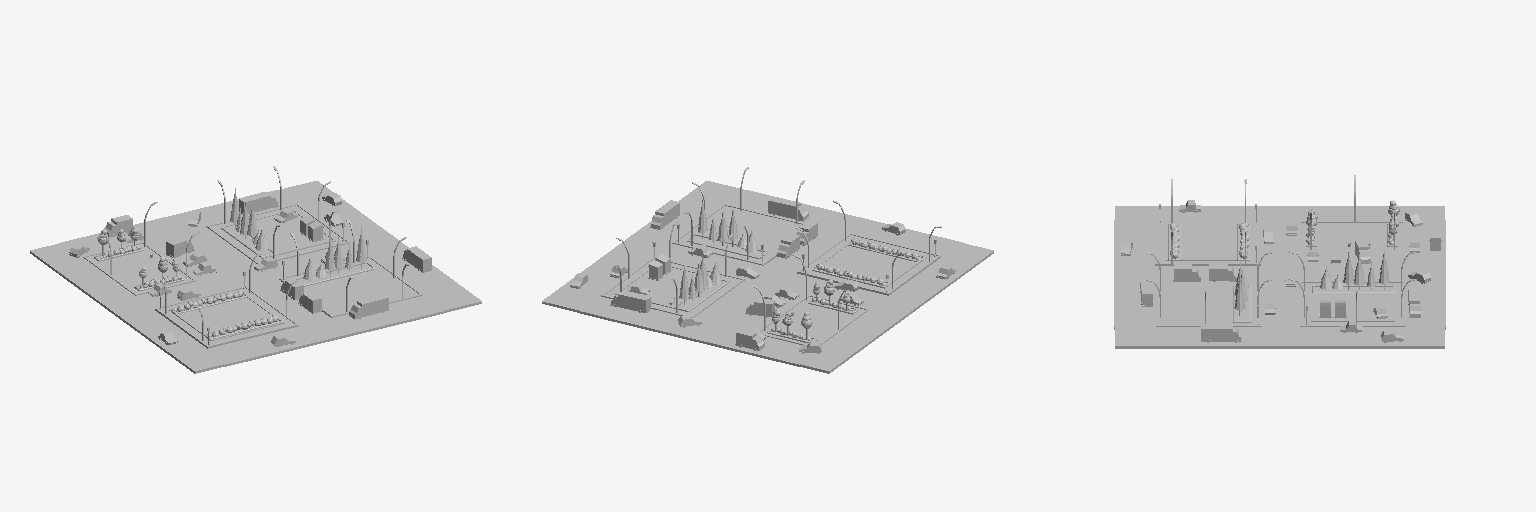
The model's file is build5.obj.
The picture shows the model from 3 angles: view 1: azimuth 30°, elevation 25°; view 2: azimuth 150°, elevation 25°; view 3: azimuth 270°, elevation 25°; orthographic projection.
Visible parts, largest first — view 1: ROAD, Floor_1, Floor.4_2, Floor.4, Floor, Floor.4_1, Floor_2, ROAD.Lines.12, Car_08.3, Car_08.5, Cube.7; view 2: ROAD, Floor_1, Floor.4_2, Floor.4, Floor, Floor_2, Floor.4_1, ROAD.Lines.12, Car_08.5, Car_08.3, Cube.7, Car_08.4 (+1 smaller); view 3: ROAD, Floor_1, Floor.4_2, Floor.4, Floor.4_1, Floor, Floor_2, ROAD.Lines.12, Floor_3, Car_08.4, Cube.7_1.
Boxes of the visible parts, x1,y1,x2,y2 form: ROAD: [30, 181, 481, 373]; Floor_1: [279, 256, 422, 317]; Floor.4_2: [83, 242, 195, 295]; Floor.4: [169, 295, 284, 340]; Floor: [155, 286, 298, 348]; Floor.4_1: [236, 209, 335, 258]; Floor_2: [206, 204, 349, 263]; ROAD.Lines.12: [66, 197, 439, 355]; Car_08.3: [349, 294, 388, 319]; Car_08.5: [239, 192, 278, 213]; Cube.7: [296, 262, 374, 286]; ROAD: [542, 181, 993, 373]; Floor_1: [672, 204, 803, 265]; Floor.4_2: [760, 294, 868, 345]; Floor.4: [815, 240, 926, 288]; Floor: [797, 233, 940, 295]; Floor_2: [601, 257, 744, 317]; Floor.4_1: [615, 266, 730, 311]; ROAD.Lines.12: [589, 200, 952, 352]; Car_08.5: [610, 290, 650, 312]; Car_08.3: [768, 196, 808, 221]; Cube.7: [687, 234, 767, 258]; Car_08.4: [650, 200, 679, 229]; ROAD: [1114, 206, 1445, 348]; Floor_1: [1156, 282, 1261, 326]; Floor.4_2: [1299, 221, 1404, 250]; Floor.4: [1166, 224, 1248, 260]; Floor.4_1: [1311, 285, 1394, 321]; Floor: [1155, 220, 1260, 265]; Floor_2: [1300, 281, 1405, 326]; ROAD.Lines.12: [1135, 213, 1424, 334]; Floor_3: [1302, 251, 1400, 262]; Car_08.4: [1201, 324, 1241, 342]; Cube.7_1: [1312, 285, 1394, 292].
Bounding box in the file's own units: 2192 × 333 × 2192.